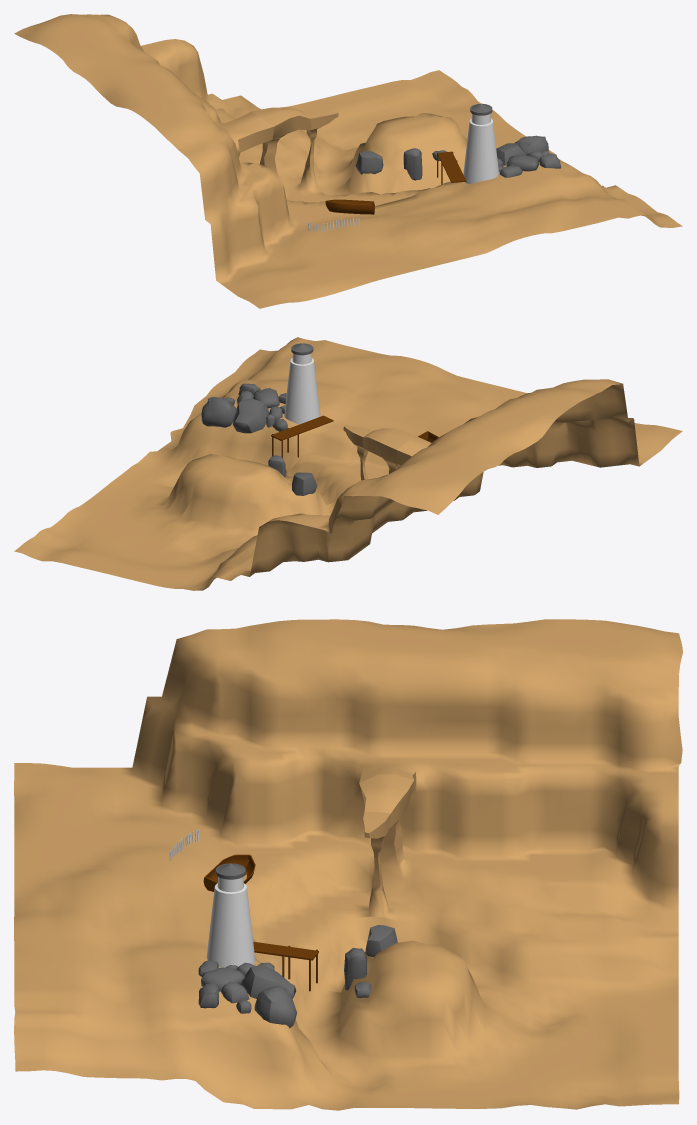
Rendered from SeagullStage_v4.fbx.
The picture shows the model from 3 angles, top to bottom: view 1: azimuth 30°, elevation 25°; view 2: azimuth 150°, elevation 25°; view 3: azimuth 270°, elevation 25°; orthographic projection. The views are drawn at different scales.
Parts seen in each view (by area): view 1: SeagullGround_v2:Island, pCylinder1, Boat2, pCube7, pCube9, pCube1, pCube3; view 2: SeagullGround_v2:Island, pCylinder1, pCube2, pCube3, pCube1, pCube7; view 3: SeagullGround_v2:Island, pCylinder1, pCube3, pCube2, pCube7, pCube9.
Boxes of the visible parts, x1=… form: SeagullGround_v2:Island: x1=14, y1=14, x2=682, y2=308; pCylinder1: x1=463, y1=103, x2=498, y2=184; Boat2: x1=325, y1=199, x2=374, y2=214; pCube7: x1=355, y1=151, x2=383, y2=174; pCube9: x1=403, y1=148, x2=422, y2=180; pCube1: x1=437, y1=151, x2=466, y2=182; pCube3: x1=515, y1=135, x2=548, y2=154; SeagullGround_v2:Island: x1=14, y1=337, x2=682, y2=590; pCylinder1: x1=284, y1=343, x2=320, y2=424; pCube2: x1=233, y1=398, x2=268, y2=433; pCube3: x1=201, y1=397, x2=236, y2=427; pCube1: x1=271, y1=415, x2=333, y2=440; pCube7: x1=292, y1=472, x2=317, y2=495; SeagullGround_v2:Island: x1=14, y1=619, x2=682, y2=1110; pCylinder1: x1=206, y1=863, x2=255, y2=967; pCube3: x1=254, y1=985, x2=296, y2=1028; pCube2: x1=241, y1=965, x2=296, y2=998; pCube7: x1=365, y1=925, x2=397, y2=956; pCube9: x1=344, y1=948, x2=366, y2=990.
Bounding box in the file's own units: 116 × 41.09 × 115.
